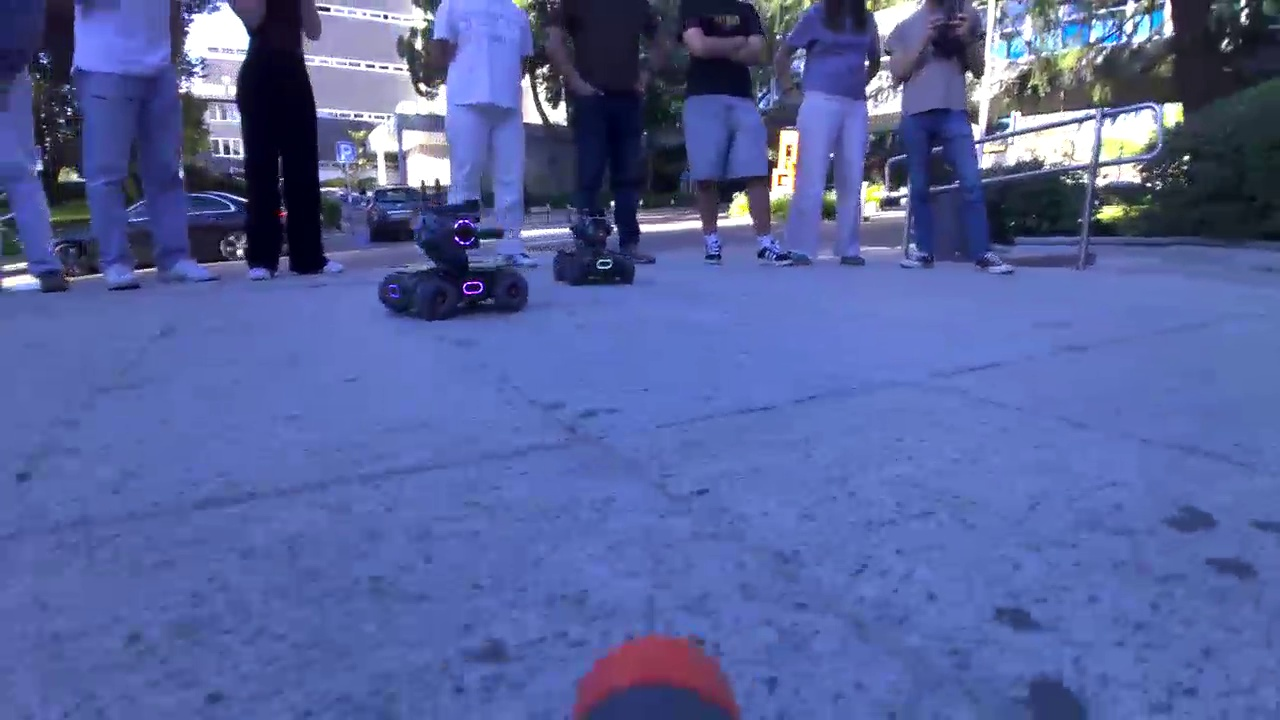robot: (363, 200, 546, 318), (549, 199, 645, 294)
